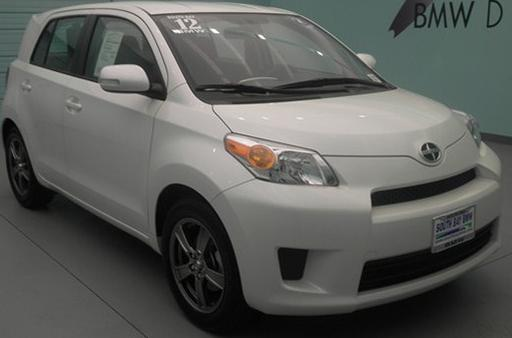front_view: (214, 113, 496, 304)
headlight: (205, 130, 348, 205)
side_glass: (34, 14, 167, 99)
